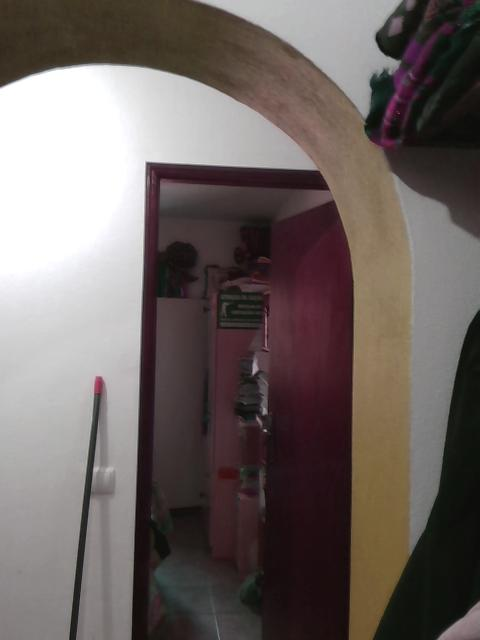open_door: (129, 159, 353, 639)
